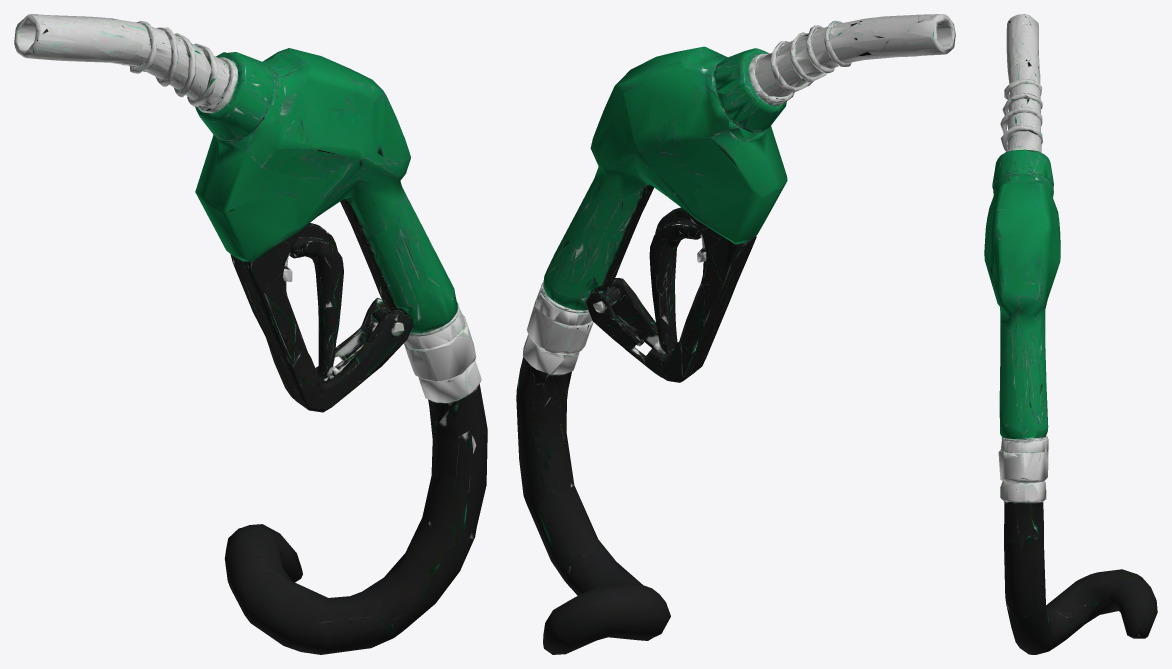
File: nozzle.glb
The picture shows the model from 3 angles, left to right: view 1: azimuth 30°, elevation 25°; view 2: azimuth 150°, elevation 25°; view 3: azimuth 270°, elevation 25°; orthographic projection. The views are drawn at different scales.
Visible parts, largest first — view 1: Mesh_0; view 2: Mesh_0; view 3: Mesh_0.
Part boxes in pixels (x1,y1,x2,y2): Mesh_0: (14,14,487,654); Mesh_0: (516,14,955,654); Mesh_0: (984,14,1157,654).
Bounding box in the file's own units: 1.27 × 1.9 × 0.5724.
Materials: 1 (1 with a texture image).
